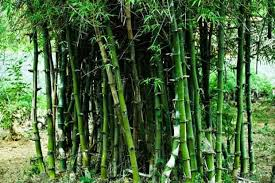bamboo: (28, 8, 253, 170)
